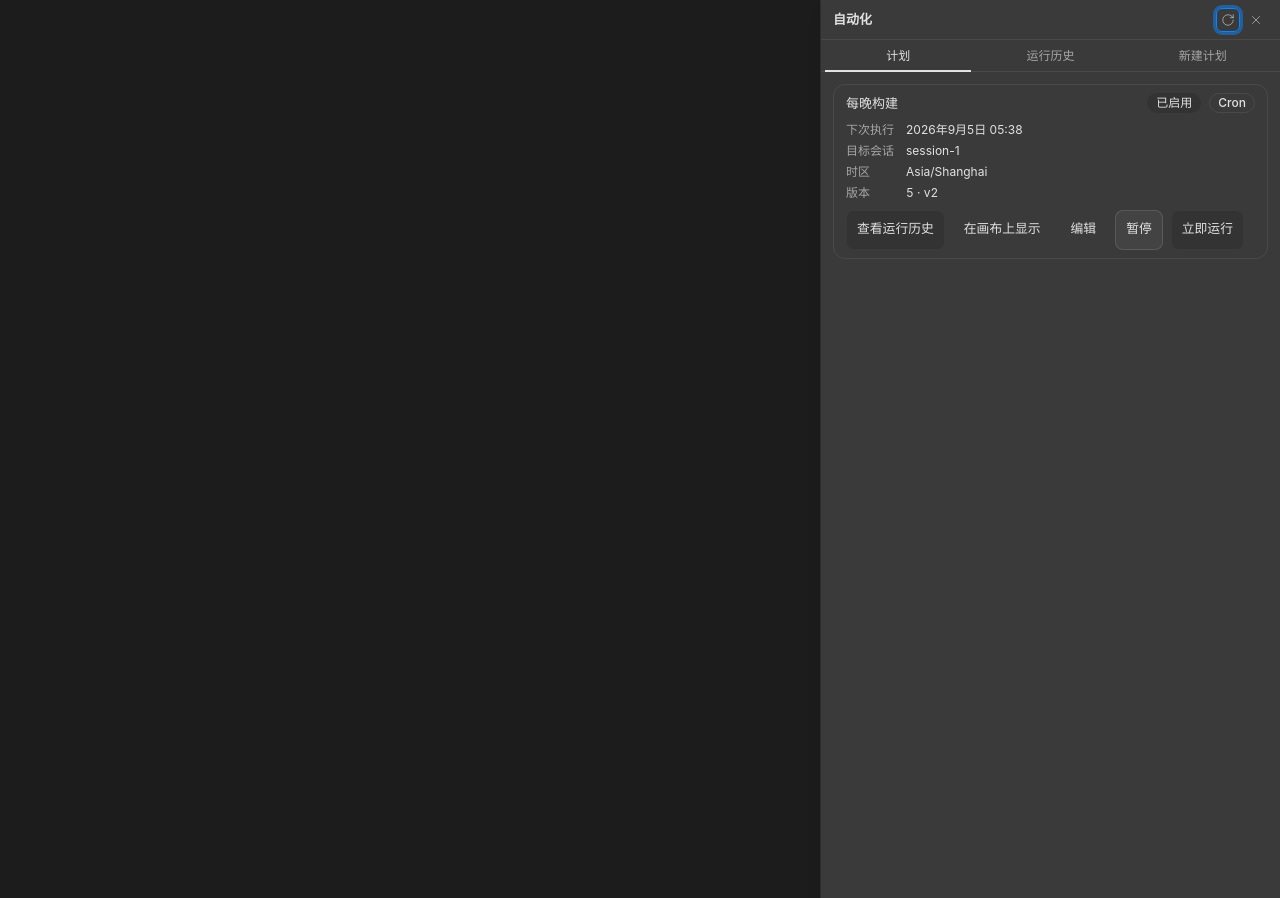
Test: editing a plan › saves a new version at the revision on screen and says it is a draft again
The width and height of the screenshot is (1280, 898).
Click the button "编辑" at (1083, 230), box 1060,210 -> 1107,250
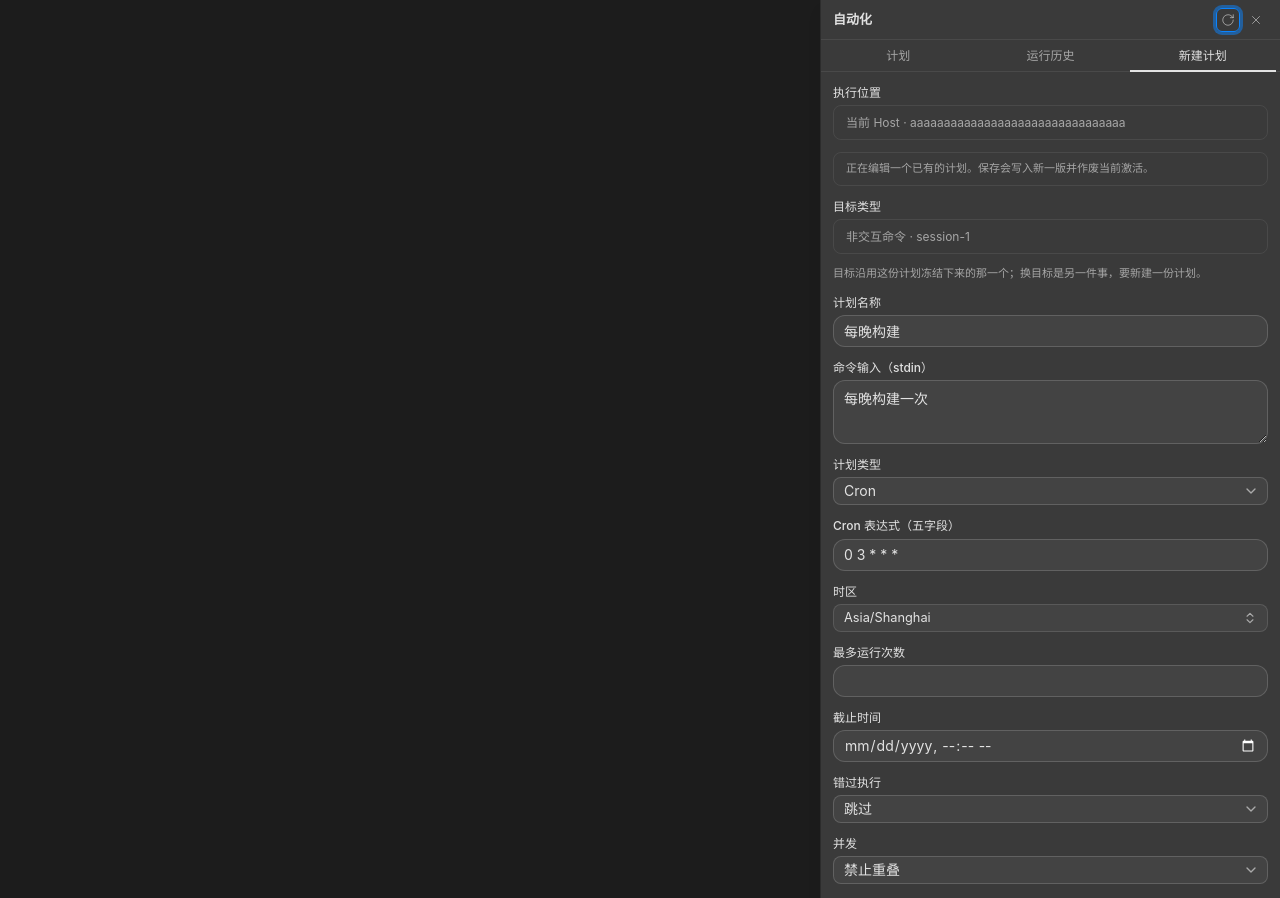
Replace the text in the text box showing "每晚构建一次" with "换一句提示词" at (1050, 412), box 833,380 -> 1268,444
(page scrolled)
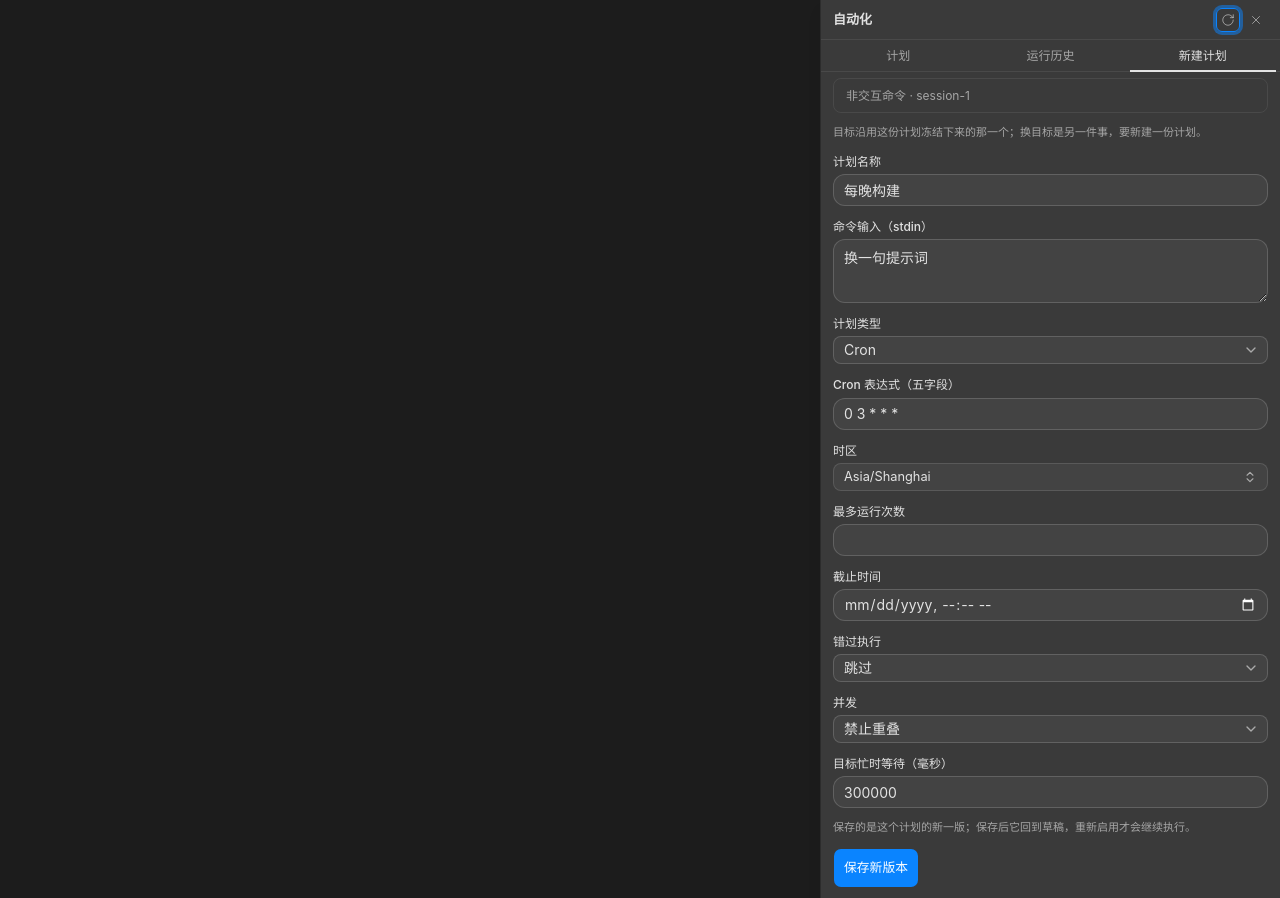
Click the button "保存新版本" at (876, 868), box 833,848 -> 919,888
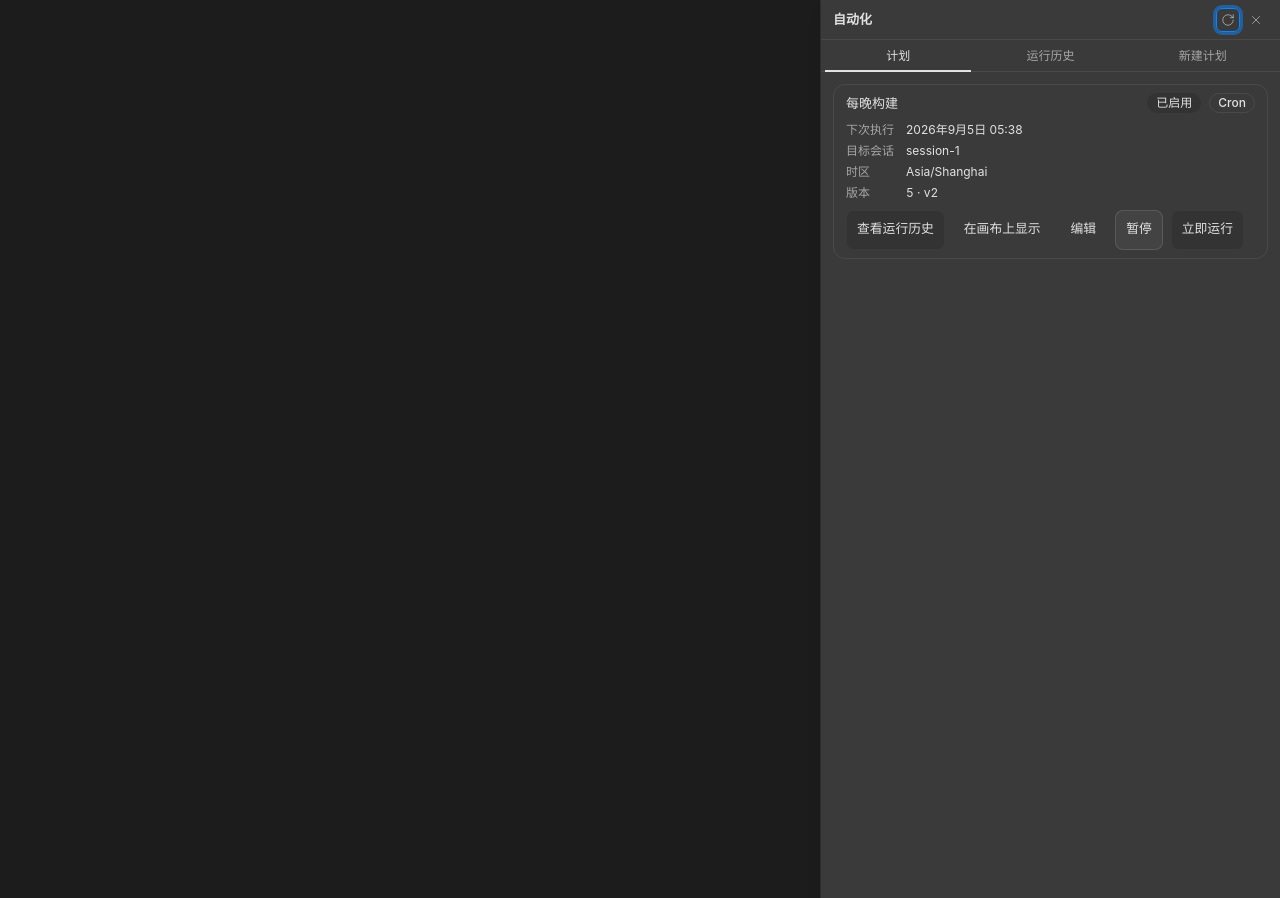
Check: the heading "每晚构建" is shown, box 846,95 -> 898,111
